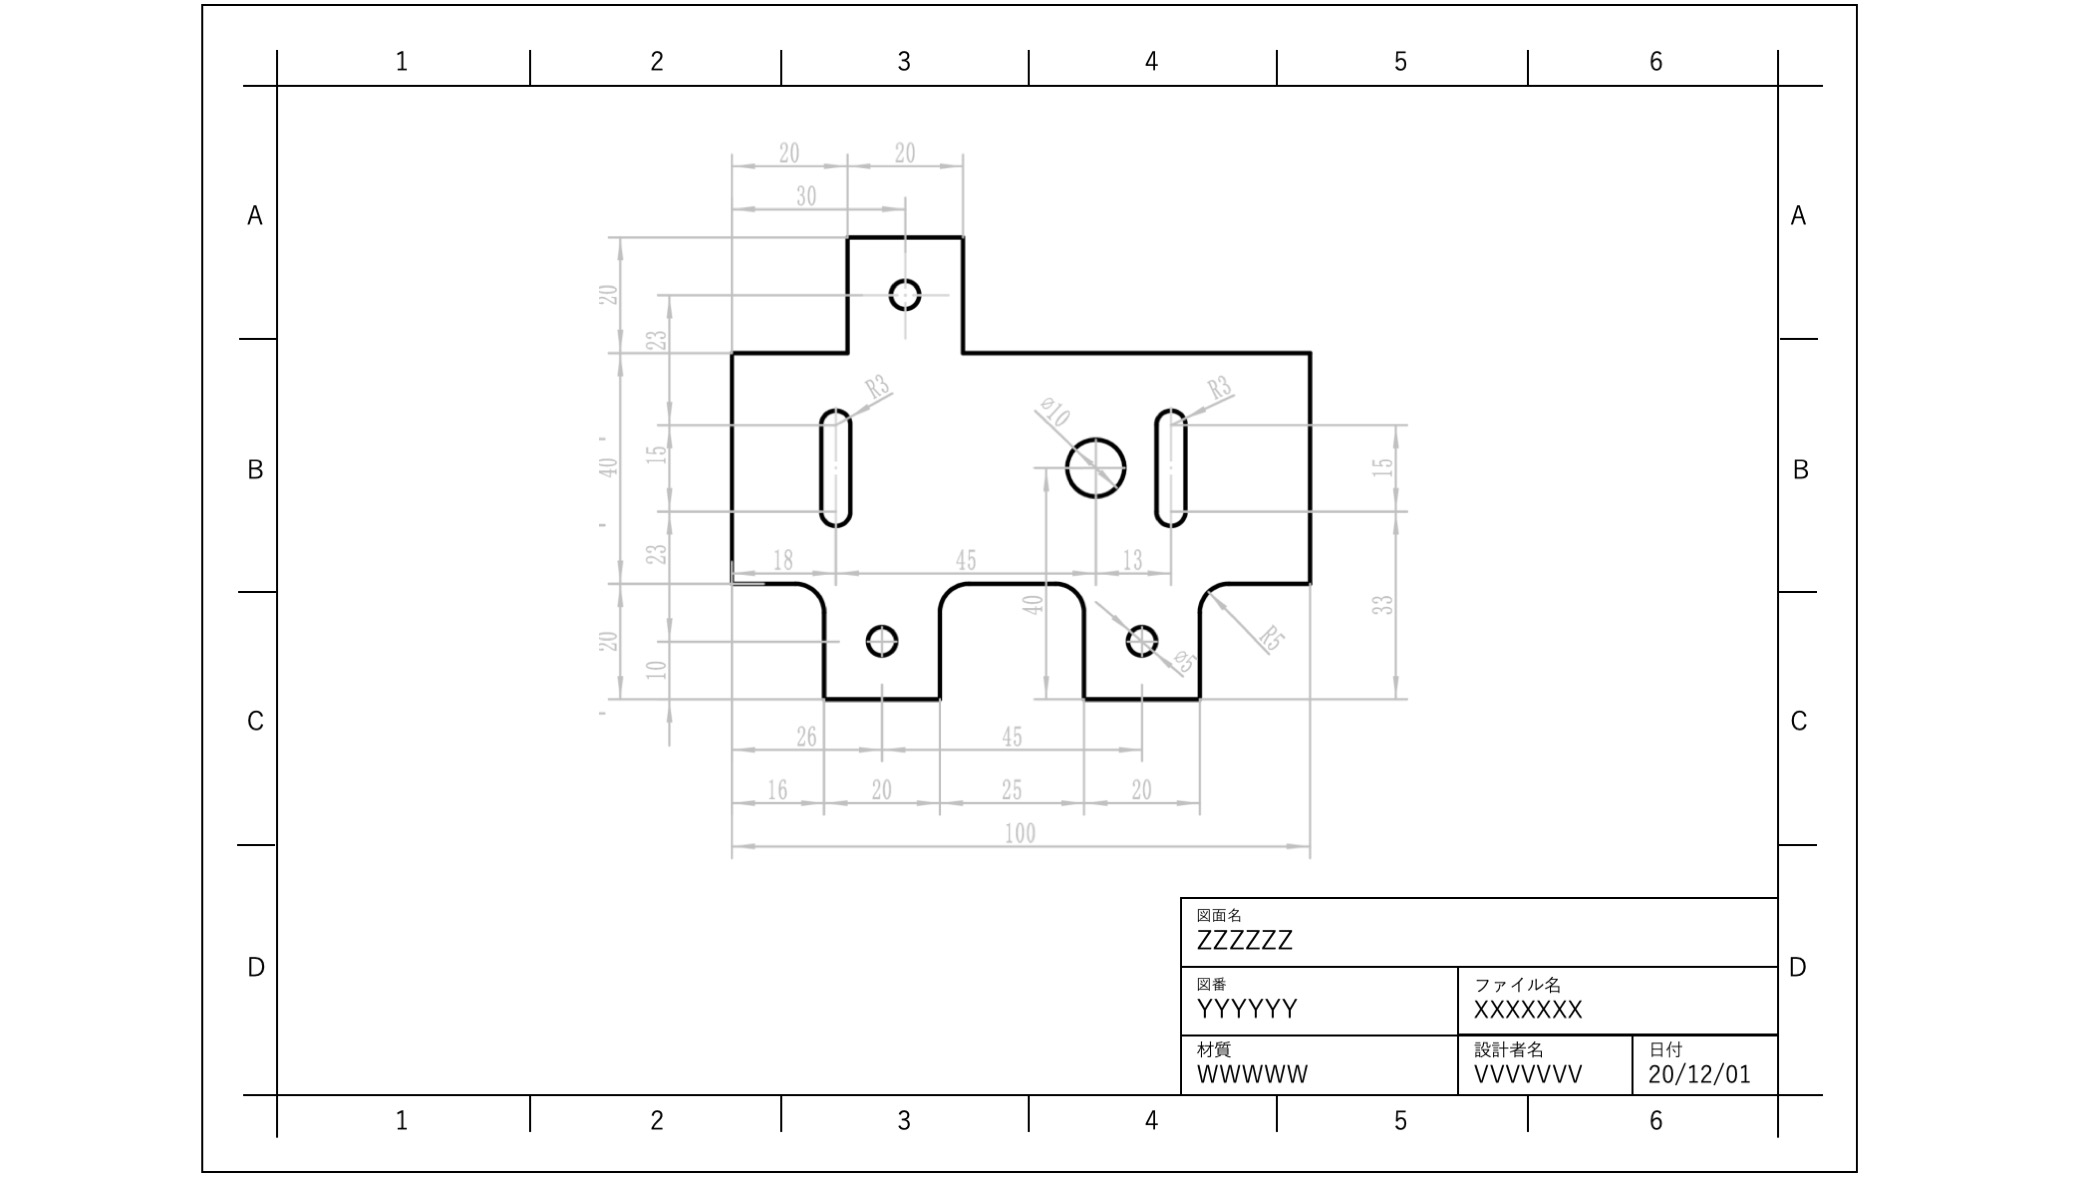circle: (1064, 425, 1131, 512), (860, 613, 910, 671), (886, 274, 945, 319), (1119, 619, 1162, 669)
round_rectangle: (812, 392, 865, 535), (1150, 391, 1199, 536)
